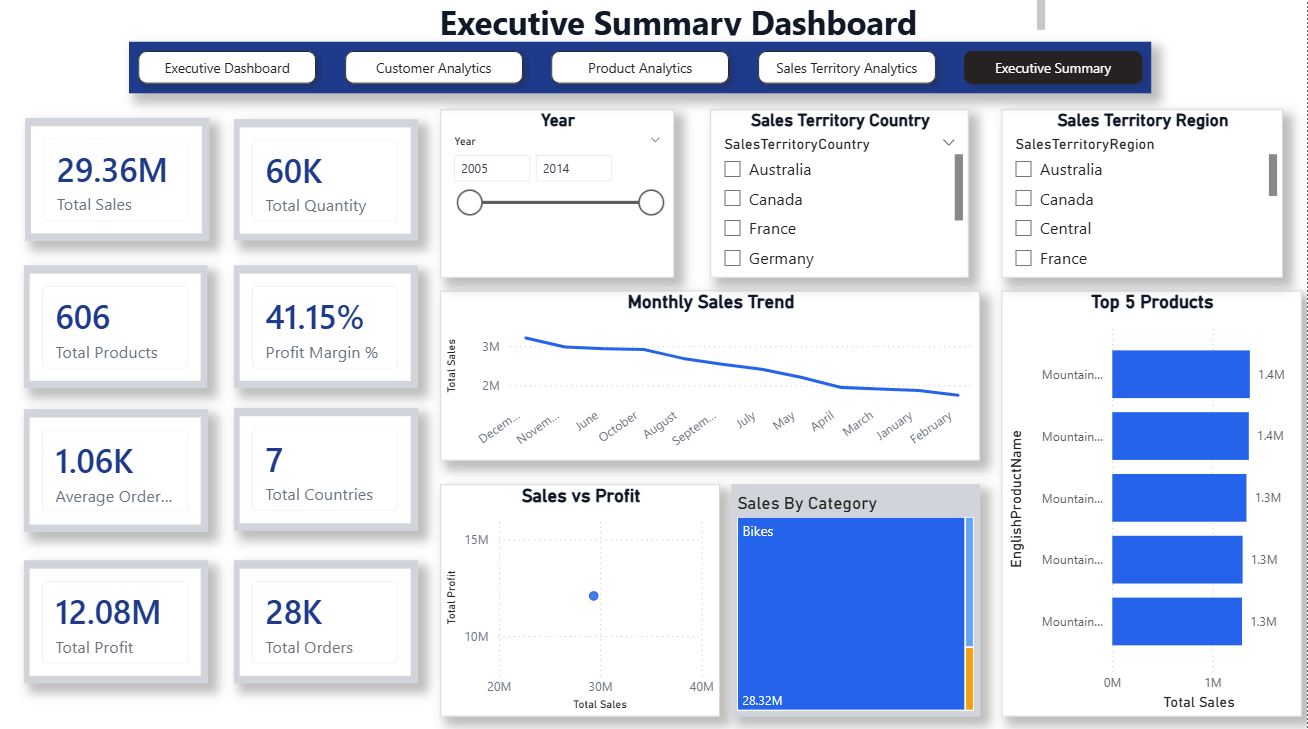

This screenshot's page, from the dashboard's own definition file:
{"tool":"powerbi","page":{"name":"Executive Summary","canvas":[1280,720],"ordinal":4},"visuals":[{"type":"textbox","box":[308.7,0,720.4,46.7],"z":0},{"type":"cardVisual","fields":{"Data":["Measuress.Total Sales"]},"box":[25.7,122.3,179.8,119.8],"z":1000},{"type":"cardVisual","fields":{"Data":["Measuress.Total Profit"]},"box":[24.5,555.2,179.8,119.8],"z":2000},{"type":"cardVisual","fields":{"Data":["Measuress.Profit Margin %"]},"box":[229.9,266.6,179.8,119.8],"z":3000},{"type":"cardVisual","fields":{"Data":["Measuress.Total Orders"]},"box":[229.9,555.2,179.8,119.8],"z":4000},{"type":"cardVisual","fields":{"Data":["Measuress.Total Countries"]},"box":[229.9,406,179.8,119.8],"z":5000},{"type":"cardVisual","fields":{"Data":["Measuress.Total Products"]},"box":[24.5,266.6,179,119.8],"z":6000},{"type":"cardVisual","fields":{"Data":["Measuress.Average Order Value"]},"box":[24.5,407.2,179.8,119.8],"z":7000},{"type":"cardVisual","fields":{"Data":["Measuress.Total Quantity"]},"box":[229.9,123.5,179.8,118.6],"z":8000},{"type":"lineChart","title":"Monthly Sales Trend","fields":{"Y":["Measuress.Total Sales"],"Category":["Date.Month"]},"box":[431.7,291,528.3,166.3],"z":9000},{"type":"scatterChart","title":"Sales vs Profit","fields":{"X":["Measuress.Total Sales"],"Y":["Measuress.Total Profit"]},"box":[431.7,480.6,273.9,227.4],"z":10000},{"type":"clusteredBarChart","title":"Top 5 Products","fields":{"Y":["Measuress.Total Sales"],"Category":["Product.EnglishProductName"]},"box":[981.1,290.9,293.7,417.2],"z":11000},{"type":"treemap","title":"Sales By Category","fields":{"Group":["ProductCategory.EnglishProductCategoryName"],"Values":["Measuress.Total Sales"]},"box":[716.6,480.6,243.3,227.4],"z":12000},{"type":"slicer","title":"Year","fields":{"Values":["Date.Year"]},"box":[431.7,113.7,228.7,165.1],"z":14000},{"type":"slicer","title":"Sales Territory Country","fields":{"Values":["SalesTerritory.SalesTerritoryCountry"]},"box":[695.8,113.7,253.1,165.1],"z":15000},{"type":"slicer","title":"Sales Territory Region","fields":{"Values":["SalesTerritory.SalesTerritoryRegion"]},"box":[980.7,113.7,275.1,165.1],"z":16000},{"type":"pageNavigator","box":[127.1,47.1,1000,50],"z":17000}]}

Visuals, with their boxes in screenshot pixels (x1, y1, x2, y2), scaled from the page's 1280x720 canvas onto the 1308x729 screenshot:
textbox: detection(315, 0, 1052, 47)
cardVisual - Measuress.Total Sales: detection(26, 124, 210, 245)
cardVisual - Measuress.Total Profit: detection(25, 562, 209, 683)
cardVisual - Measuress.Profit Margin %: detection(235, 270, 419, 391)
cardVisual - Measuress.Total Orders: detection(235, 562, 419, 683)
cardVisual - Measuress.Total Countries: detection(235, 411, 419, 532)
cardVisual - Measuress.Total Products: detection(25, 270, 208, 391)
cardVisual - Measuress.Average Order Value: detection(25, 412, 209, 534)
cardVisual - Measuress.Total Quantity: detection(235, 125, 419, 245)
"Monthly Sales Trend" lineChart: detection(441, 295, 981, 463)
"Sales vs Profit" scatterChart: detection(441, 487, 721, 717)
"Top 5 Products" clusteredBarChart: detection(1003, 295, 1303, 717)
"Sales By Category" treemap: detection(732, 487, 981, 717)
"Year" slicer: detection(441, 115, 675, 282)
"Sales Territory Country" slicer: detection(711, 115, 970, 282)
"Sales Territory Region" slicer: detection(1002, 115, 1283, 282)
pageNavigator: detection(130, 48, 1152, 98)
